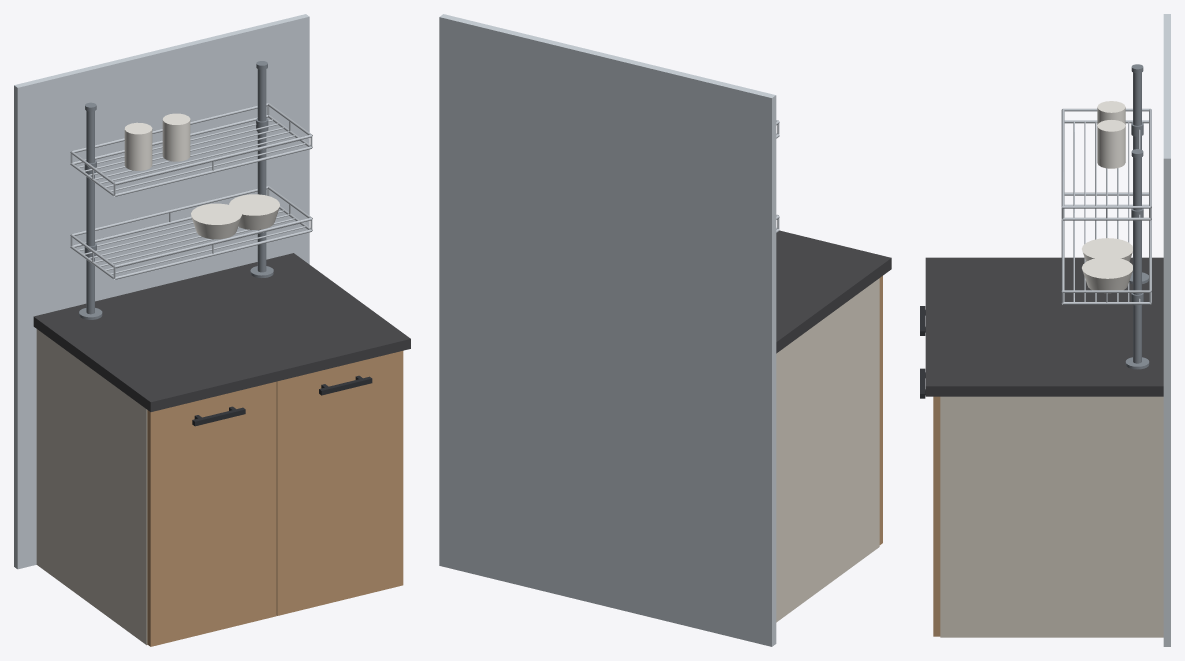
Rendered from total-shelf.glb.
3 renders of one model, left to right at view 1: azimuth 30°, elevation 25°; view 2: azimuth 150°, elevation 25°; view 3: azimuth 270°, elevation 25°, orthographic. The views are drawn at different scales.
Parts seen in each view (by area): view 1: 벽, 상판, 하부장 문, 하부장 문.001, 하부장, 보조선반 철망, 그릇, 보조선반 기둥; view 2: 벽, 하부장, 상판, 하부장 문; view 3: 하부장, 상판, 벽, 보조선반 철망, 그릇, 보조선반 기둥, 하부장 문.001.
Boxes of the visible parts, bbox=[...] form: 벽: bbox=[14, 14, 309, 569]; 상판: bbox=[33, 253, 410, 411]; 하부장 문: bbox=[147, 381, 276, 646]; 하부장 문.001: bbox=[276, 351, 403, 615]; 하부장: bbox=[36, 329, 147, 645]; 보조선반 철망: bbox=[70, 103, 312, 279]; 그릇: bbox=[124, 113, 279, 239]; 보조선반 기둥: bbox=[79, 61, 273, 319]; 벽: bbox=[439, 14, 776, 646]; 하부장: bbox=[776, 278, 879, 622]; 상판: bbox=[776, 230, 891, 353]; 하부장 문: bbox=[879, 276, 882, 544]; 하부장: bbox=[940, 396, 1163, 637]; 상판: bbox=[925, 257, 1163, 396]; 벽: bbox=[1163, 14, 1170, 646]; 보조선반 철망: bbox=[1061, 108, 1151, 304]; 그릇: bbox=[1082, 101, 1132, 293]; 보조선반 기둥: bbox=[1125, 64, 1149, 369]; 하부장 문.001: bbox=[933, 396, 940, 636].
Bounding box in the file's own units: 0.92 × 1.45 × 0.675.
